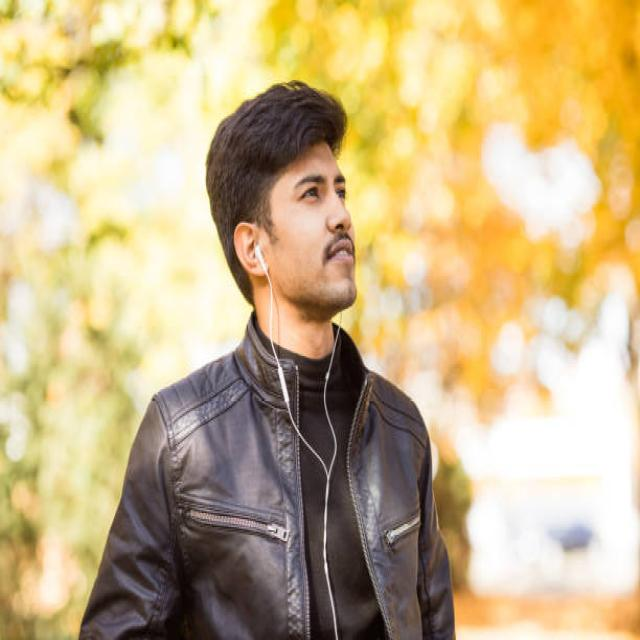Earphone: (253, 241, 344, 640)
